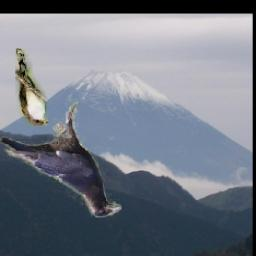Crow: (0, 100, 123, 217)
Cuckoo: (15, 49, 48, 128)
